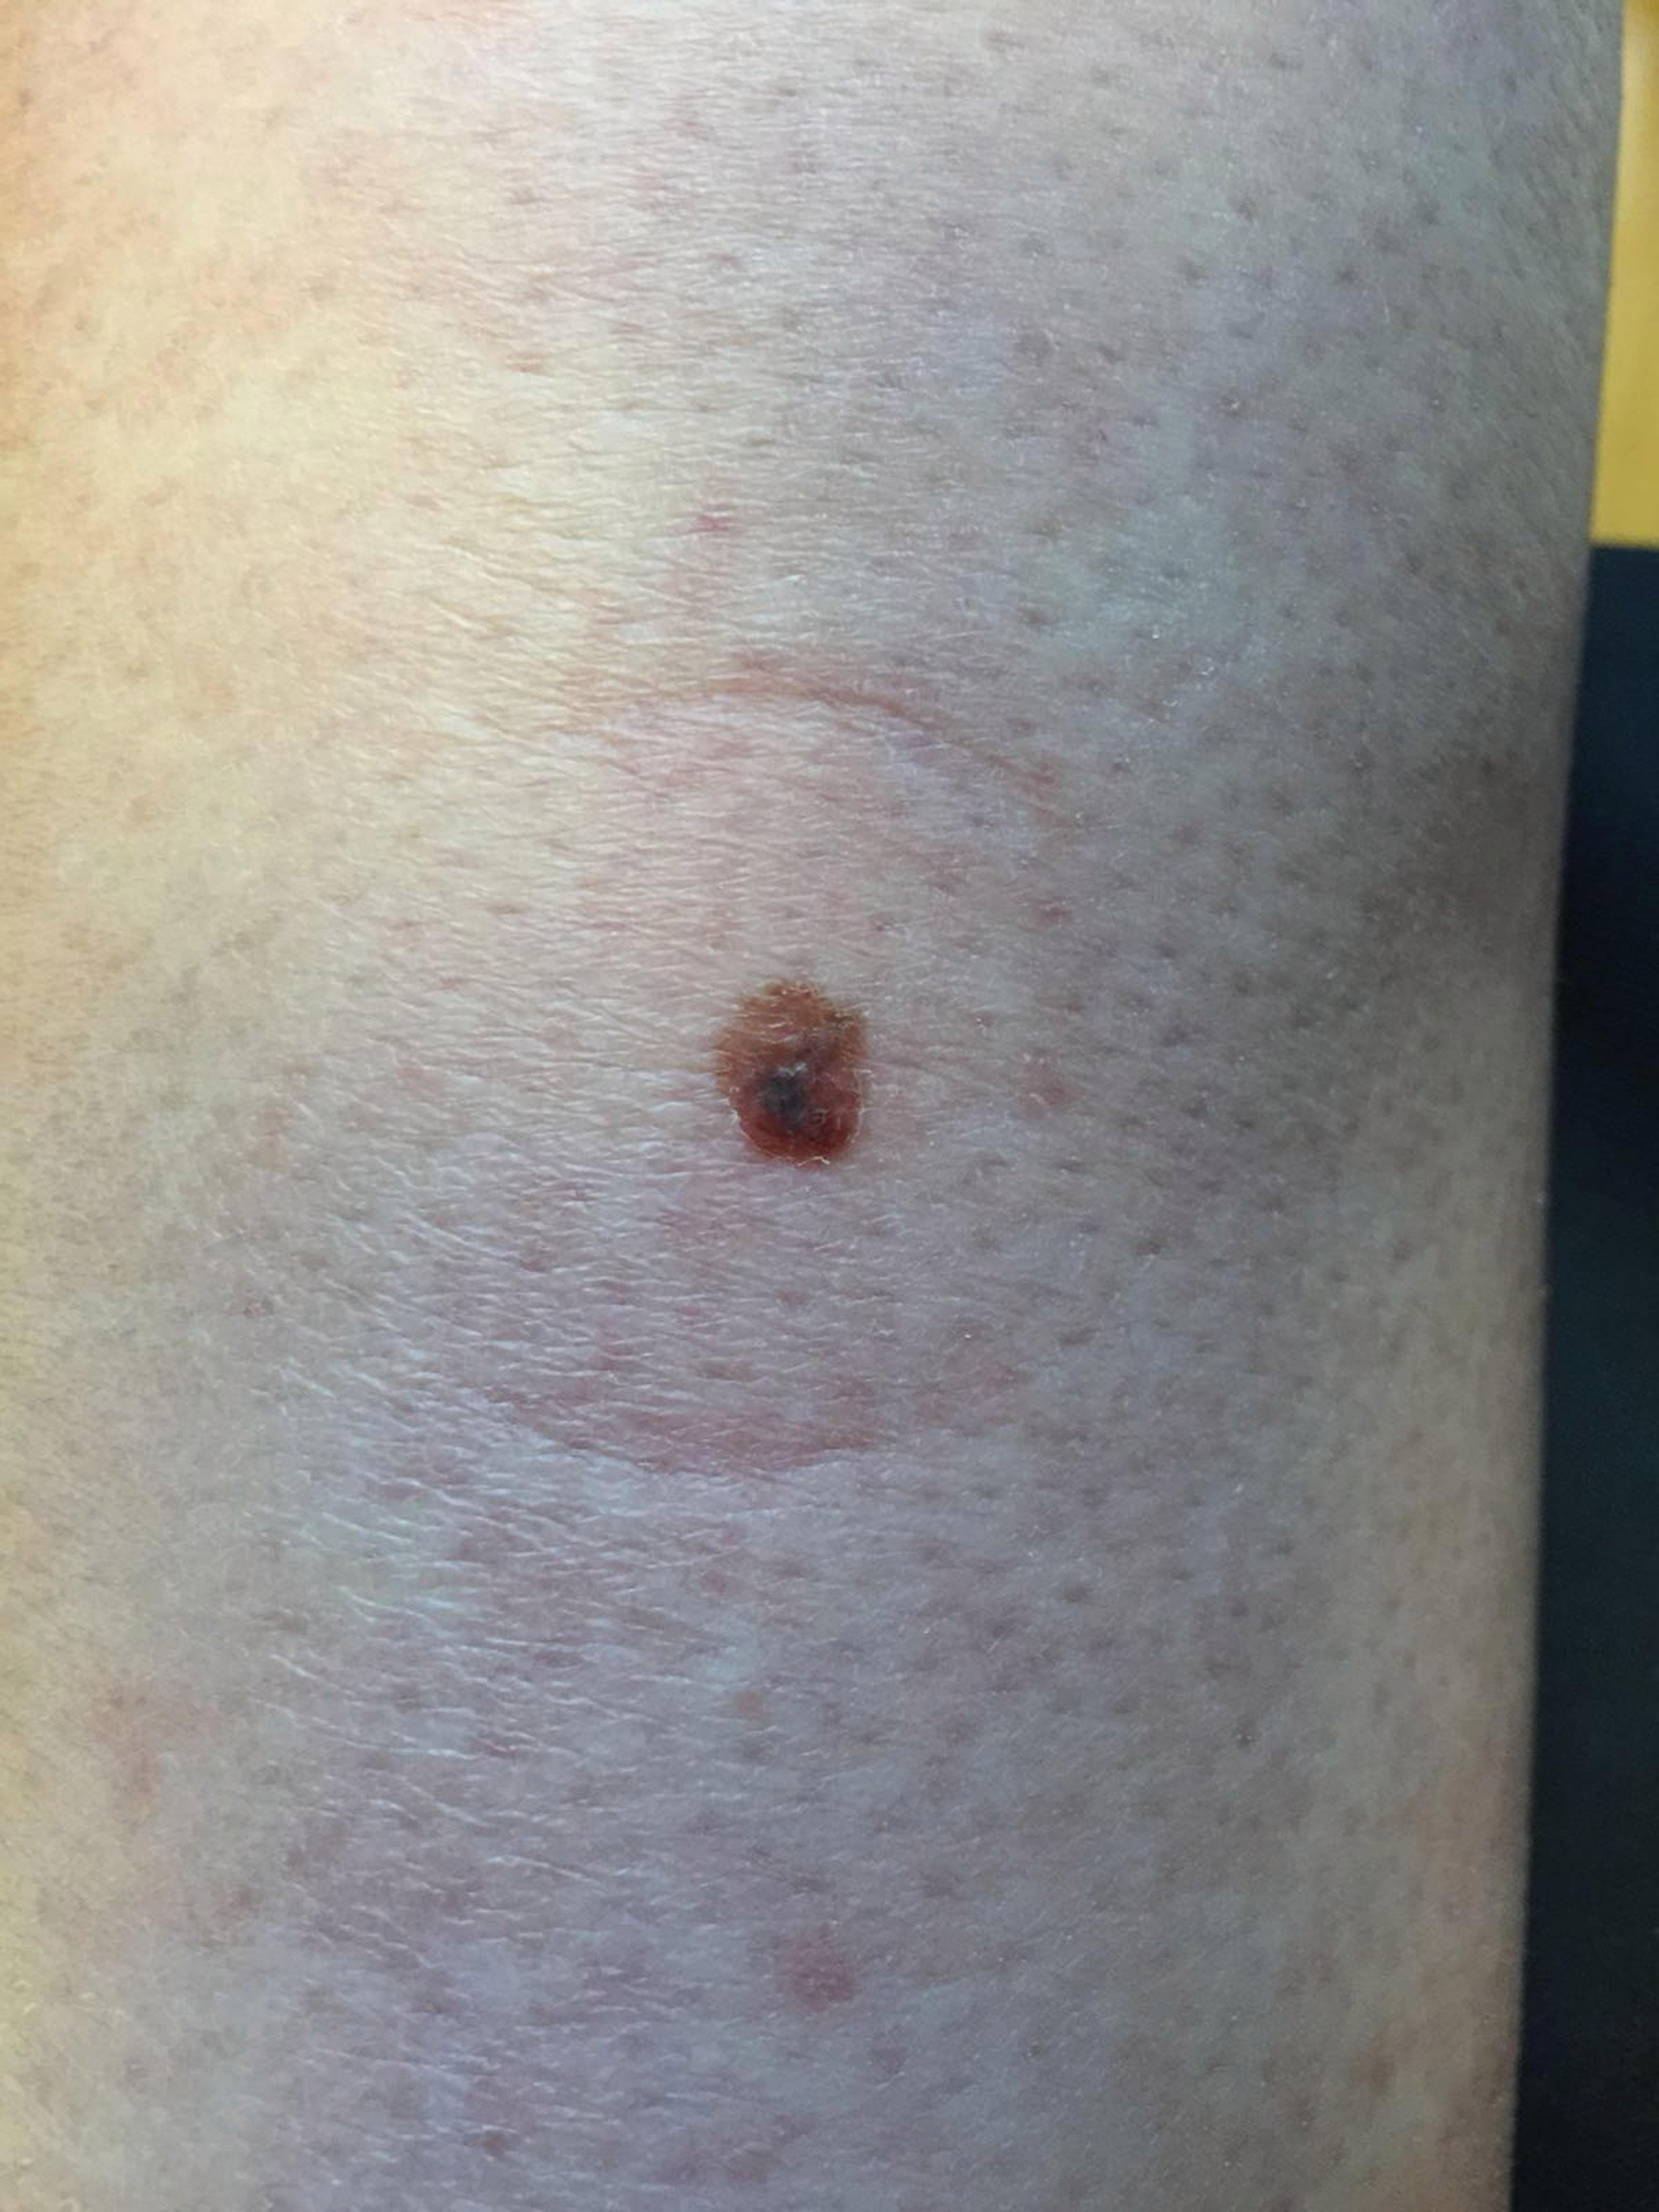melanoma: (413, 704, 1192, 1342)
